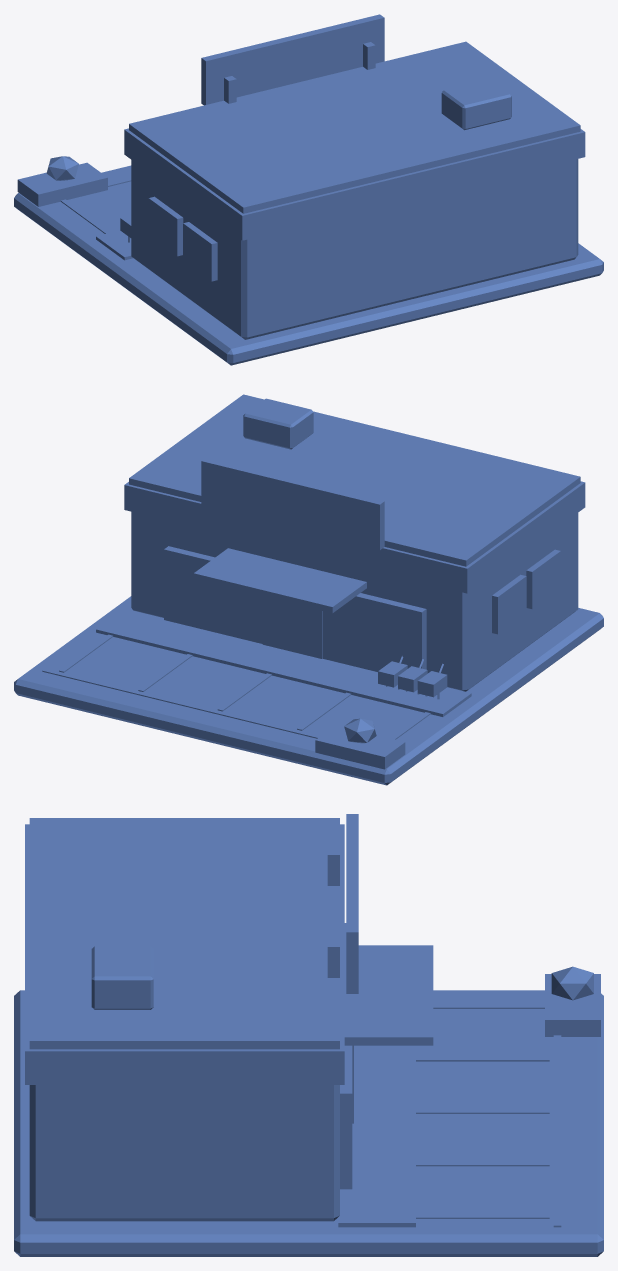
The picture shows the model from 3 angles, top to bottom: view 1: azimuth 30°, elevation 25°; view 2: azimuth 150°, elevation 25°; view 3: azimuth 270°, elevation 25°; orthographic projection. The views are drawn at different scales.
Parts seen in each view (by area): view 1: corpo; view 2: corpo; view 3: corpo.
Boxes of the visible parts, x1,y1,x2,y2 form: corpo: [14, 14, 603, 365]; corpo: [14, 394, 603, 785]; corpo: [14, 814, 603, 1256].
Bounding box in the file's own units: 1.9 × 0.93 × 1.9.
